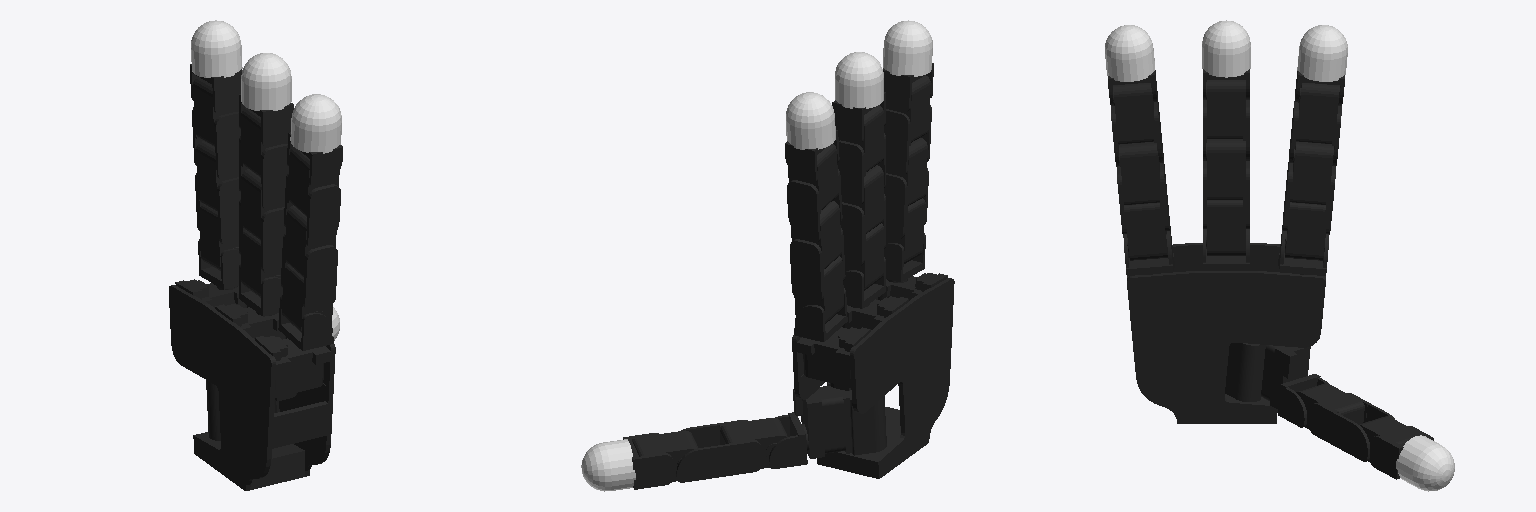
The robot description file, URDF, robot "allegro_hand_right":
<?xml version="1.0" ?>
<!-- =================================================================================== -->
<!-- |    This document was autogenerated by xacro from allegro_hand_description_right.xacro | -->
<!-- |    EDITING THIS FILE BY HAND IS NOT RECOMMENDED                                 | -->
<!-- =================================================================================== -->
<robot name="allegro_hand_right" xmlns:xacro="http://www.ros.org/wiki/xacro">
  <!-- ======================== BASE PARAMS ========================= -->
  <!-- ======================== FINGER PARAMS ======================== -->
  <!-- full height from joint to tip. when used,
    the radius of the finger tip sphere will be subtracted
    and one fixed link will be added for the tip. -->
  <!-- ========================= THUMB PARAMS ========================= -->
  <!-- ========================= LIMITS ========================= -->
  <!-- ============================================================================= -->
  <!-- PALM -->
  <link name="palm_link">
    <visual>
      <geometry>
        <mesh filename="./hand_meshes/base_link.stl"/>
      </geometry>
      <origin rpy="0 0 0" xyz="0 0 0 "/>
      <material name="black">
        <color rgba="0.2 0.2 0.2 1"/>
      </material>
    </visual>
    <collision>
      <origin rpy="0 0 0" xyz="-0.009300 0 -0.0475"/>
      <geometry>
        <box size="0.0408 0.1130 0.095"/>
      </geometry>
    </collision>
    <inertial>
      <origin rpy="0 0 0" xyz="0 0 0.0475"/>
      <mass value="0.4154"/>
      <inertia ixx="1e-4" ixy="0.0" ixz="0.0" iyy="1e-4" iyz="0.0" izz="1e-4"/>
    </inertial>
  </link>
  <!-- ============================================================================= -->
  <!-- FINGERS -->
  <!-- RIGHT HAND due to which finger is number 0 -->
  <!-- for LEFT HAND switch the sign of the **offset_origin_y** and **finger_angle_r** parameters-->
  <!-- [LINK 0, 4, 8] -->
  <link name="link_0.0">
    <visual>
      <geometry>
        <mesh filename="./hand_meshes/link_0.0.stl"/>
      </geometry>
      <material name="black"/>
    </visual>
    <collision>
      <geometry>
        <box size="0.0196 0.0275 0.0164"/>
      </geometry>
      <origin rpy="0 0 0" xyz="0 0 0.0082"/>
    </collision>
    <inertial>
      <mass value="0.0119"/>
      <origin rpy="0 0 0" xyz="0 0 0"/>
      <inertia ixx="1.01666658333e-06" ixy="0.0" ixz="0.0" iyy="6.47677333333e-07" iyz="0.0" izz="1.01666658333e-06"/>
    </inertial>
  </link>
  <joint name="joint_0.0" type="revolute">
    <axis xyz="0 0 1"/>
    <limit effort="15" lower="-0.47" upper="0.47" velocity="7"/>
    <parent link="palm_link"/>
    <child link="link_0.0"/>
    <origin rpy="-0.08726646255 0 0" xyz="0 0.0435 -0.001542"/>
    <dynamics damping="3" friction="10"/>
  </joint>
  <!-- [LINK 1, 5, 9] -->
  <link name="link_1.0">
    <visual>
      <geometry>
        <mesh filename="./hand_meshes/link_1.0.stl"/>
      </geometry>
      <material name="black"/>
    </visual>
    <collision>
      <geometry>
        <box size="0.0196 0.0275 0.054"/>
      </geometry>
      <origin rpy="0 0 0" xyz="0 0 0.027"/>
    </collision>
    <inertial>
      <mass value="0.065"/>
      <origin rpy="0 0 0" xyz="0 0 0"/>
      <inertia ixx="7.95654166667e-05" ixy="1.7199e-05" ixz="8.75875e-06" iyy="2.47088833333e-05" iyz="2.413125e-05" izz="7.95654166667e-05"/>
    </inertial>
  </link>
  <joint name="joint_1.0" type="revolute">
    <limit effort="15" lower="-0.196" upper="1.61" velocity="7"/>
    <axis xyz="0 1 0"/>
    <parent link="link_0.0"/>
    <child link="link_1.0"/>
    <origin xyz="0 0 0.0164"/>
    <dynamics damping="3" friction="5"/>
  </joint>
  <!-- [LINK 2, 6, 10]-->
  <link name="link_2.0">
    <visual>
      <geometry>
        <mesh filename="./hand_meshes/link_2.0.stl"/>
      </geometry>
      <material name="black"/>
    </visual>
    <collision>
      <geometry>
        <box size="0.0196 0.0275 0.0384"/>
      </geometry>
      <origin rpy="0 0 0" xyz="0 0 0.0192"/>
    </collision>
    <inertial>
      <mass value="0.0355"/>
      <origin rpy="0 0 0" xyz="0 0 0"/>
      <inertia ixx="2.63979183333e-05" ixy="6.67968e-06" ixz="4.783625e-06" iyy="1.34948516667e-05" iyz="9.372e-06" izz="2.63979183333e-05"/>
    </inertial>
  </link>
  <joint name="joint_2.0" type="revolute">
    <axis xyz="0 1 0"/>
    <limit effort="15" lower="-0.174" upper="1.709" velocity="7"/>
    <parent link="link_1.0"/>
    <child link="link_2.0"/>
    <origin xyz="0 0 0.054"/>
    <dynamics damping="8" friction="10"/>
  </joint>
  <!-- [LINK 3, 7, 11] -->
  <link name="link_3.0">
    <visual>
      <geometry>
        <mesh filename="./hand_meshes/link_3.0.stl"/>
      </geometry>
      <material name="black"/>
    </visual>
    <collision>
      <geometry>
        <box size="0.0196 0.0275 0.0267"/>
      </geometry>
      <origin rpy="0 0 0" xyz="0 0 0.01335"/>
    </collision>
    <inertial>
      <mass value="0.0096"/>
      <origin rpy="0 0 0" xyz="0 0 0"/>
      <inertia ixx="4.701248e-06" ixy="1.255968e-06" ixz="1.2936e-06" iyy="3.649312e-06" iyz="1.7622e-06" izz="4.701248e-06"/>
    </inertial>
  </link>
  <joint name="joint_3.0" type="revolute">
    <axis xyz="0 1 0"/>
    <limit effort="15" lower="-0.227" upper="1.618" velocity="7"/>
    <parent link="link_2.0"/>
    <child link="link_3.0"/>
    <origin xyz="0 0 0.0384"/>
    <dynamics damping="10" friction="12"/>
  </joint>
  <!-- [FINGER TIP] -->
  <link name="link_3.0_tip">
    <visual>
      <geometry>
        <mesh filename="./hand_meshes/link_3.0_tip.stl"/>
      </geometry>
      <material name="white">
        <color rgba=".9 .9 .9 1"/>
      </material>
    </visual>
    <collision>
      <geometry>
        <sphere radius="0.012"/>
      </geometry>
    </collision>
    <inertial>
      <mass value="0.0168"/>
      <origin rpy="0 0 0" xyz="0 0 0"/>
      <inertia ixx="9.68e-07" ixy="0" ixz="0" iyy="9.68e-07" iyz="0" izz="9.68e-07"/>
    </inertial>
  </link>
  <joint name="joint_3.0_tip" type="fixed">
    <parent link="link_3.0"/>
    <child link="link_3.0_tip"/>
    <origin rpy="0 0 0" xyz="0 0 0.0267"/>
  </joint>
  <!-- [LINK 0, 4, 8] -->
  <link name="link_4.0">
    <visual>
      <geometry>
        <mesh filename="./hand_meshes/link_0.0.stl"/>
      </geometry>
      <material name="black"/>
    </visual>
    <collision>
      <geometry>
        <box size="0.0196 0.0275 0.0164"/>
      </geometry>
      <origin rpy="0 0 0" xyz="0 0 0.0082"/>
    </collision>
    <inertial>
      <mass value="0.0119"/>
      <origin rpy="0 0 0" xyz="0 0 0"/>
      <inertia ixx="1.01666658333e-06" ixy="0.0" ixz="0.0" iyy="6.47677333333e-07" iyz="0.0" izz="1.01666658333e-06"/>
    </inertial>
  </link>
  <joint name="joint_4.0" type="revolute">
    <axis xyz="0 0 1"/>
    <limit effort="15" lower="-0.47" upper="0.47" velocity="7"/>
    <parent link="palm_link"/>
    <child link="link_4.0"/>
    <origin rpy="0.0 0 0" xyz="0 0 0.0007"/>
    <dynamics damping="3" friction="10"/>
  </joint>
  <!-- [LINK 1, 5, 9] -->
  <link name="link_5.0">
    <visual>
      <geometry>
        <mesh filename="./hand_meshes/link_1.0.stl"/>
      </geometry>
      <material name="black"/>
    </visual>
    <collision>
      <geometry>
        <box size="0.0196 0.0275 0.054"/>
      </geometry>
      <origin rpy="0 0 0" xyz="0 0 0.027"/>
    </collision>
    <inertial>
      <mass value="0.065"/>
      <origin rpy="0 0 0" xyz="0 0 0"/>
      <inertia ixx="7.95654166667e-05" ixy="1.7199e-05" ixz="8.75875e-06" iyy="2.47088833333e-05" iyz="2.413125e-05" izz="7.95654166667e-05"/>
    </inertial>
  </link>
  <joint name="joint_5.0" type="revolute">
    <limit effort="15" lower="-0.196" upper="1.61" velocity="7"/>
    <axis xyz="0 1 0"/>
    <parent link="link_4.0"/>
    <child link="link_5.0"/>
    <origin xyz="0 0 0.0164"/>
    <dynamics damping="3" friction="5"/>
  </joint>
  <!-- [LINK 2, 6, 10]-->
  <link name="link_6.0">
    <visual>
      <geometry>
        <mesh filename="./hand_meshes/link_2.0.stl"/>
      </geometry>
      <material name="black"/>
    </visual>
    <collision>
      <geometry>
        <box size="0.0196 0.0275 0.0384"/>
      </geometry>
      <origin rpy="0 0 0" xyz="0 0 0.0192"/>
    </collision>
    <inertial>
      <mass value="0.0355"/>
      <origin rpy="0 0 0" xyz="0 0 0"/>
      <inertia ixx="2.63979183333e-05" ixy="6.67968e-06" ixz="4.783625e-06" iyy="1.34948516667e-05" iyz="9.372e-06" izz="2.63979183333e-05"/>
    </inertial>
  </link>
  <joint name="joint_6.0" type="revolute">
    <axis xyz="0 1 0"/>
    <limit effort="15" lower="-0.174" upper="1.709" velocity="7"/>
    <parent link="link_5.0"/>
    <child link="link_6.0"/>
    <origin xyz="0 0 0.054"/>
    <dynamics damping="8" friction="10"/>
  </joint>
  <!-- [LINK 3, 7, 11] -->
  <link name="link_7.0">
    <visual>
      <geometry>
        <mesh filename="./hand_meshes/link_3.0.stl"/>
      </geometry>
      <material name="black"/>
    </visual>
    <collision>
      <geometry>
        <box size="0.0196 0.0275 0.0267"/>
      </geometry>
      <origin rpy="0 0 0" xyz="0 0 0.01335"/>
    </collision>
    <inertial>
      <mass value="0.0096"/>
      <origin rpy="0 0 0" xyz="0 0 0"/>
      <inertia ixx="4.701248e-06" ixy="1.255968e-06" ixz="1.2936e-06" iyy="3.649312e-06" iyz="1.7622e-06" izz="4.701248e-06"/>
    </inertial>
  </link>
  <joint name="joint_7.0" type="revolute">
    <axis xyz="0 1 0"/>
    <limit effort="15" lower="-0.227" upper="1.618" velocity="7"/>
    <parent link="link_6.0"/>
    <child link="link_7.0"/>
    <origin xyz="0 0 0.0384"/>
    <dynamics damping="10" friction="12"/>
  </joint>
  <!-- [FINGER TIP] -->
  <link name="link_7.0_tip">
    <visual>
      <geometry>
        <mesh filename="./hand_meshes/link_3.0_tip.stl"/>
      </geometry>
      <material name="white">
        <color rgba=".9 .9 .9 1"/>
      </material>
    </visual>
    <collision>
      <geometry>
        <sphere radius="0.012"/>
      </geometry>
    </collision>
    <inertial>
      <mass value="0.0168"/>
      <origin rpy="0 0 0" xyz="0 0 0"/>
      <inertia ixx="9.68e-07" ixy="0" ixz="0" iyy="9.68e-07" iyz="0" izz="9.68e-07"/>
    </inertial>
  </link>
  <joint name="joint_7.0_tip" type="fixed">
    <parent link="link_7.0"/>
    <child link="link_7.0_tip"/>
    <origin rpy="0 0 0" xyz="0 0 0.0267"/>
  </joint>
  <!-- [LINK 0, 4, 8] -->
  <link name="link_8.0">
    <visual>
      <geometry>
        <mesh filename="./hand_meshes/link_0.0.stl"/>
      </geometry>
      <material name="black"/>
    </visual>
    <collision>
      <geometry>
        <box size="0.0196 0.0275 0.0164"/>
      </geometry>
      <origin rpy="0 0 0" xyz="0 0 0.0082"/>
    </collision>
    <inertial>
      <mass value="0.0119"/>
      <origin rpy="0 0 0" xyz="0 0 0"/>
      <inertia ixx="1.01666658333e-06" ixy="0.0" ixz="0.0" iyy="6.47677333333e-07" iyz="0.0" izz="1.01666658333e-06"/>
    </inertial>
  </link>
  <joint name="joint_8.0" type="revolute">
    <axis xyz="0 0 1"/>
    <limit effort="15" lower="-0.47" upper="0.47" velocity="7"/>
    <parent link="palm_link"/>
    <child link="link_8.0"/>
    <origin rpy="0.08726646255 0 0" xyz="0 -0.0435 -0.001542"/>
    <dynamics damping="3" friction="10"/>
  </joint>
  <!-- [LINK 1, 5, 9] -->
  <link name="link_9.0">
    <visual>
      <geometry>
        <mesh filename="./hand_meshes/link_1.0.stl"/>
      </geometry>
      <material name="black"/>
    </visual>
    <collision>
      <geometry>
        <box size="0.0196 0.0275 0.054"/>
      </geometry>
      <origin rpy="0 0 0" xyz="0 0 0.027"/>
    </collision>
    <inertial>
      <mass value="0.065"/>
      <origin rpy="0 0 0" xyz="0 0 0"/>
      <inertia ixx="7.95654166667e-05" ixy="1.7199e-05" ixz="8.75875e-06" iyy="2.47088833333e-05" iyz="2.413125e-05" izz="7.95654166667e-05"/>
    </inertial>
  </link>
  <joint name="joint_9.0" type="revolute">
    <limit effort="15" lower="-0.196" upper="1.61" velocity="7"/>
    <axis xyz="0 1 0"/>
    <parent link="link_8.0"/>
    <child link="link_9.0"/>
    <origin xyz="0 0 0.0164"/>
    <dynamics damping="3" friction="5"/>
  </joint>
  <!-- [LINK 2, 6, 10]-->
  <link name="link_10.0">
    <visual>
      <geometry>
        <mesh filename="./hand_meshes/link_2.0.stl"/>
      </geometry>
      <material name="black"/>
    </visual>
    <collision>
      <geometry>
        <box size="0.0196 0.0275 0.0384"/>
      </geometry>
      <origin rpy="0 0 0" xyz="0 0 0.0192"/>
    </collision>
    <inertial>
      <mass value="0.0355"/>
      <origin rpy="0 0 0" xyz="0 0 0"/>
      <inertia ixx="2.63979183333e-05" ixy="6.67968e-06" ixz="4.783625e-06" iyy="1.34948516667e-05" iyz="9.372e-06" izz="2.63979183333e-05"/>
    </inertial>
  </link>
  <joint name="joint_10.0" type="revolute">
    <axis xyz="0 1 0"/>
    <limit effort="15" lower="-0.174" upper="1.709" velocity="7"/>
    <parent link="link_9.0"/>
    <child link="link_10.0"/>
    <origin xyz="0 0 0.054"/>
    <dynamics damping="8" friction="10"/>
  </joint>
  <!-- [LINK 3, 7, 11] -->
  <link name="link_11.0">
    <visual>
      <geometry>
        <mesh filename="./hand_meshes/link_3.0.stl"/>
      </geometry>
      <material name="black"/>
    </visual>
    <collision>
      <geometry>
        <box size="0.0196 0.0275 0.0267"/>
      </geometry>
      <origin rpy="0 0 0" xyz="0 0 0.01335"/>
    </collision>
    <inertial>
      <mass value="0.0096"/>
      <origin rpy="0 0 0" xyz="0 0 0"/>
      <inertia ixx="4.701248e-06" ixy="1.255968e-06" ixz="1.2936e-06" iyy="3.649312e-06" iyz="1.7622e-06" izz="4.701248e-06"/>
    </inertial>
  </link>
  <joint name="joint_11.0" type="revolute">
    <axis xyz="0 1 0"/>
    <limit effort="15" lower="-0.227" upper="1.618" velocity="7"/>
    <parent link="link_10.0"/>
    <child link="link_11.0"/>
    <origin xyz="0 0 0.0384"/>
    <dynamics damping="10" friction="12"/>
  </joint>
  <!-- [FINGER TIP] -->
  <link name="link_11.0_tip">
    <visual>
      <geometry>
        <mesh filename="./hand_meshes/link_3.0_tip.stl"/>
      </geometry>
      <material name="white">
        <color rgba=".9 .9 .9 1"/>
      </material>
    </visual>
    <collision>
      <geometry>
        <sphere radius="0.012"/>
      </geometry>
    </collision>
    <inertial>
      <mass value="0.0168"/>
      <origin rpy="0 0 0" xyz="0 0 0"/>
      <inertia ixx="9.68e-07" ixy="0" ixz="0" iyy="9.68e-07" iyz="0" izz="9.68e-07"/>
    </inertial>
  </link>
  <joint name="joint_11.0_tip" type="fixed">
    <parent link="link_11.0"/>
    <child link="link_11.0_tip"/>
    <origin rpy="0 0 0" xyz="0 0 0.0267"/>
  </joint>
  <!-- THUMB -->
  <!-- [LINK 12] -->
  <link name="link_12.0">
    <visual>
      <geometry>
        <mesh filename="./hand_meshes/link_12.0_right.stl"/>
      </geometry>
      <material name="black">
        <color rgba=".2 .2 .2 1"/>
      </material>
      <origin rpy="0 0 0" xyz="0 0 0"/>
    </visual>
    <collision>
      <geometry>
        <box size="0.0358 0.034 0.0455"/>
      </geometry>
      <origin rpy="0 0 0" xyz="-0.0179 0.009 0.0145"/>
    </collision>
    <inertial>
      <mass value="0.0176"/>
      <origin rpy="0 0 0" xyz="0 0 0"/>
      <inertia ixx="1.89273333333e-5" ixy="7.16716e-06" ixz="5.35568e-06" iyy="1.43008213333e-05" iyz="6.8068e-06" izz="1.89273333333e-05"/>
    </inertial>
  </link>
  <joint name="joint_12.0" type="revolute">
    <axis xyz="-1 0 0"/>
    <limit effort="15" lower="0.263" upper="1.396" velocity="7"/>
    <parent link="palm_link"/>
    <child link="link_12.0"/>
    <origin rpy="0 -1.65806278845 -1.5707963259" xyz="-0.0182 0.019333 -0.045987"/>
    <dynamics damping="3" friction="10"/>
  </joint>
  <!-- [LINK 13] -->
  <link name="link_13.0">
    <visual>
      <geometry>
        <mesh filename="./hand_meshes/link_13.0.stl"/>
      </geometry>
      <material name="black">
        <color rgba=".2 .2 .2 1"/>
      </material>
    </visual>
    <collision>
      <geometry>
        <box size="0.0196 0.0275 0.0177"/>
      </geometry>
      <origin rpy="0 0 0" xyz="0 0 0.00885"/>
    </collision>
    <inertial>
      <mass value="0.0119"/>
      <origin rpy="0 0 0" xyz="0 0 0"/>
      <inertia ixx="4.24250866667e-06" ixy="1.032087e-06" ixz="1.603525e-06" iyy="4.52362633333e-06" iyz="1.44808125e-06" izz="4.24250866667e-06"/>
    </inertial>
  </link>
  <joint name="joint_13.0" type="revolute">
    <axis xyz="0 0 1"/>
    <limit effort="15" lower="-0.105" upper="1.163" velocity="7"/>
    <parent link="link_12.0"/>
    <child link="link_13.0"/>
    <origin xyz="-0.027 0.005 0.0399"/>
    <dynamics damping="3" friction="5"/>
  </joint>
  <!-- [LINK 14] -->
  <link name="link_14.0">
    <visual>
      <geometry>
        <mesh filename="./hand_meshes/link_14.0.stl"/>
      </geometry>
      <material name="black">
                </material>
    </visual>
    <collision>
      <geometry>
        <box size="0.0196 0.0275 0.0514"/>
      </geometry>
      <origin rpy="0 0 0" xyz="0 0 0.0257"/>
    </collision>
    <inertial>
      <mass value="0.038"/>
      <origin rpy="0 0 0" xyz="0 0 0"/>
      <inertia ixx="4.30439933333e-05" ixy="9.57068e-06" ixz="5.1205e-06" iyy="1.44451933333e-05" iyz="1.342825e-05" izz="4.30439933333e-05"/>
    </inertial>
  </link>
  <joint name="joint_14.0" type="revolute">
    <axis xyz="0 1 0"/>
    <limit effort="15" lower="-0.189" upper="1.644" velocity="7"/>
    <parent link="link_13.0"/>
    <child link="link_14.0"/>
    <origin xyz="0 0 0.0177"/>
    <dynamics damping="3" friction="10"/>
  </joint>
  <!-- [LINK 15] -->
  <link name="link_15.0">
    <visual>
      <geometry>
        <mesh filename="./hand_meshes/link_15.0.stl"/>
      </geometry>
      <material name="black">
                </material>
    </visual>
    <collision>
      <geometry>
        <box size="0.0196 0.0275 0.0423"/>
      </geometry>
      <origin rpy="0 0 0" xyz="0 0 0.02115"/>
    </collision>
    <inertial>
      <mass value="0.0388"/>
      <origin rpy="0 0 0" xyz="0 0 0"/>
      <inertia ixx="3.29223173333e-05" ixy="8.042076e-06" ixz="5.2283e-06" iyy="1.47493026667e-5" iyz="1.1283525e-5" izz="3.29223173333e-05"/>
    </inertial>
  </link>
  <joint name="joint_15.0" type="revolute">
    <axis xyz="0 1 0"/>
    <limit effort="15" lower="-0.162" upper="1.719" velocity="7"/>
    <parent link="link_14.0"/>
    <child link="link_15.0"/>
    <origin xyz="0 0 0.0514"/>
    <dynamics damping="3" friction="12"/>
  </joint>
  <!-- [FINGER TIP] -->
  <link name="link_15.0_tip">
    <visual>
      <geometry>
        <mesh filename="./hand_meshes/link_15.0_tip.stl"/>
      </geometry>
      <material name="white">
        <color rgba=".9 .9 .9 1"/>
      </material>
    </visual>
    <collision>
      <geometry>
        <sphere radius="0.012"/>
      </geometry>
      <origin rpy="0 0 0" xyz="0 0 0"/>
    </collision>
    <inertial>
      <mass value="0.0168"/>
      <origin rpy="0 0 0" xyz="0 0 0"/>
      <inertia ixx="9.68e-07" ixy="0" ixz="0" iyy="9.68e-07" iyz="0" izz="9.68e-07"/>
    </inertial>
  </link>
  <joint name="joint_15.0_tip" type="fixed">
    <parent link="link_15.0"/>
    <child link="link_15.0_tip"/>
    <origin rpy="0 0 0" xyz="0 0 0.0423"/>
  </joint>
  <!-- ============================================================================= -->
  <!-- THUMB MACRO -->
  <!-- END THUMB MACRO -->
  <!-- THREE FINGER MACRO -->
  <!-- [[END]] THREE FINGER MACRO -->
</robot>

--- Render facts (derived) ---
3 views of the same robot in one strip: view 1: azimuth 30°, elevation 25°; view 2: azimuth 150°, elevation 25°; view 3: azimuth 270°, elevation 25° (orthographic).
Robot: allegro_hand_right — 21 links, 20 joints (16 revolute, 4 fixed); root link palm_link; default pose: all joints at 0 but 1 set to mid-range because 0 is outside their limits (joint_12.0 = 0.8295).
Visible links, largest first — view 1: palm_link, link_9.0, link_5.0, link_1.0, link_10.0, link_2.0, link_6.0, link_11.0_tip, link_7.0_tip, link_3.0_tip, link_8.0, link_7.0 (+5 smaller); view 2: palm_link, link_14.0, link_12.0, link_1.0, link_5.0, link_9.0, link_2.0, link_10.0, link_6.0, link_15.0, link_3.0_tip, link_7.0_tip (+9 smaller); view 3: palm_link, link_1.0, link_9.0, link_5.0, link_12.0, link_14.0, link_10.0, link_2.0, link_6.0, link_15.0_tip, link_7.0_tip, link_3.0_tip (+6 smaller).
Boxes of the visible links, box(x1,y1,x2,y2) form: palm_link: box(169, 279, 335, 490); link_9.0: box(281, 205, 337, 332); link_5.0: box(239, 169, 285, 297); link_1.0: box(195, 141, 240, 270); link_10.0: box(284, 147, 340, 248); link_2.0: box(192, 77, 240, 179); link_6.0: box(239, 107, 290, 209); link_11.0_tip: box(290, 94, 341, 153); link_7.0_tip: box(241, 53, 291, 110); link_3.0_tip: box(191, 20, 242, 77); link_8.0: box(278, 296, 333, 350); link_7.0: box(239, 94, 293, 146); palm_link: box(792, 273, 954, 478); link_14.0: box(676, 418, 787, 482); link_12.0: box(793, 382, 886, 458); link_1.0: box(790, 201, 845, 323); link_5.0: box(840, 165, 885, 290); link_9.0: box(884, 138, 928, 263); link_2.0: box(787, 144, 842, 242); link_10.0: box(884, 75, 931, 175); link_6.0: box(836, 105, 885, 204); link_15.0: box(623, 431, 697, 489); link_3.0_tip: box(786, 92, 835, 149); link_7.0_tip: box(835, 52, 883, 108); palm_link: box(1127, 243, 1325, 423); link_1.0: box(1283, 142, 1335, 260); link_9.0: box(1117, 142, 1169, 260); link_5.0: box(1203, 139, 1249, 255); link_12.0: box(1225, 343, 1310, 408); link_14.0: box(1296, 383, 1394, 461); link_10.0: box(1111, 83, 1163, 166); link_2.0: box(1289, 83, 1341, 166); link_6.0: box(1203, 80, 1249, 160); link_15.0_tip: box(1396, 435, 1454, 491); link_7.0_tip: box(1202, 20, 1250, 77); link_3.0_tip: box(1297, 25, 1347, 81).
Size in the robot's own frame: 0.1417 by 0.1997 by 0.2477 metres.
21 mesh visuals loaded from 11 distinct referenced files (11 binary STL).